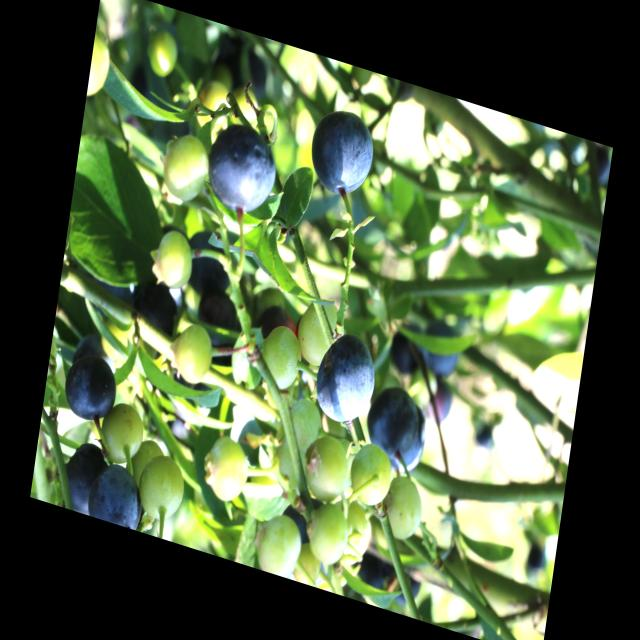blueberry: (200, 112, 284, 224), (309, 321, 383, 433), (303, 100, 379, 206), (364, 379, 434, 482), (86, 455, 151, 532), (59, 344, 119, 421), (58, 433, 105, 518)
blueberry-unripe: (134, 447, 192, 533), (250, 499, 307, 581), (166, 311, 220, 395), (160, 129, 214, 211), (294, 289, 347, 372), (300, 429, 354, 507), (378, 472, 431, 550), (346, 440, 398, 518), (202, 430, 254, 507), (98, 398, 147, 476), (256, 320, 304, 396), (302, 501, 352, 573), (152, 223, 198, 292), (280, 386, 325, 454), (336, 499, 376, 575), (123, 431, 166, 500), (143, 26, 183, 85), (86, 28, 116, 106)
